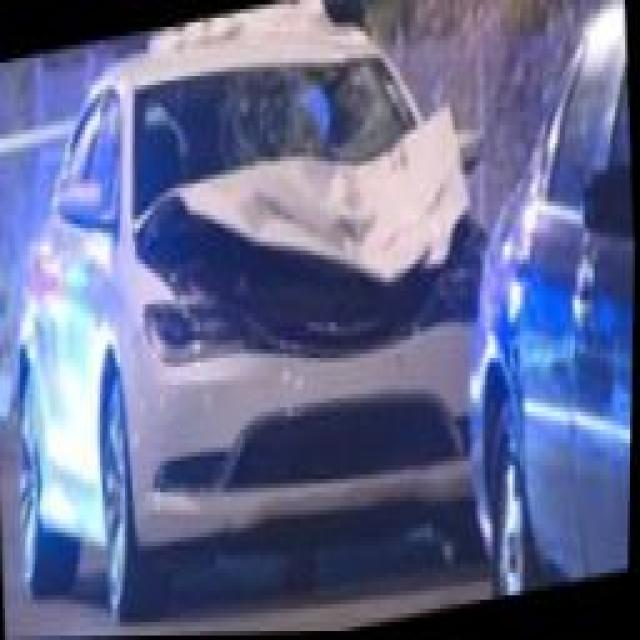Bonnet: (135, 121, 484, 347)
Windshield: (135, 27, 418, 198)
